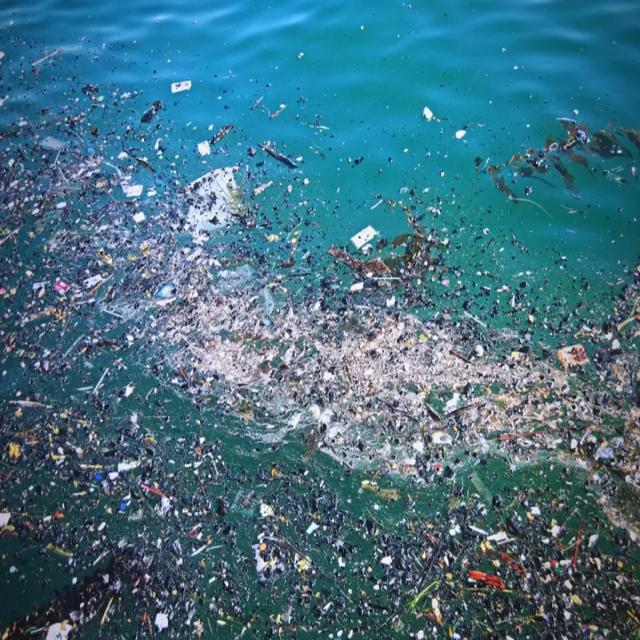plastic watse: (147, 254, 639, 470), (10, 202, 148, 573), (210, 517, 571, 638)
